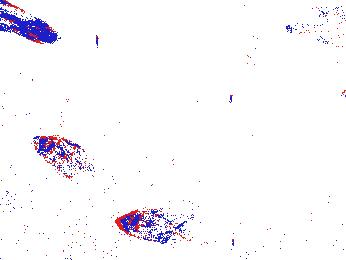X-ray fish: (30, 136, 106, 184), (115, 206, 185, 240), (1, 183, 37, 209)
redtail glassfish: (1, 1, 58, 44)
